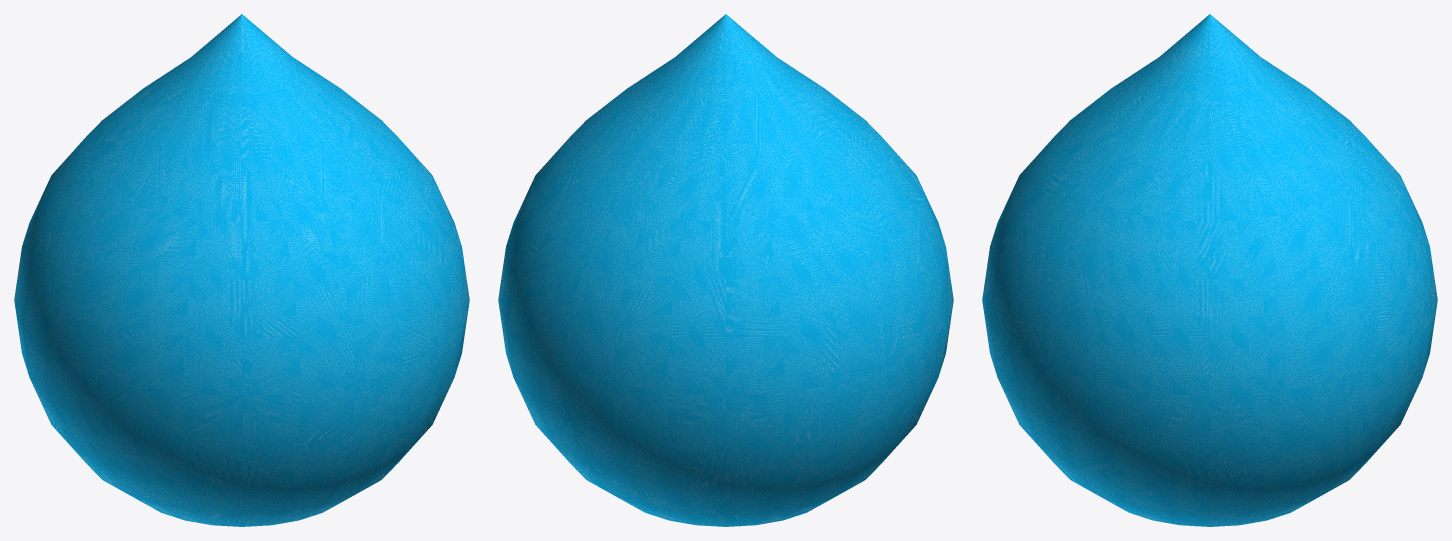
Rendered from anim.fbx.
3 renders of one model, left to right at view 1: azimuth 30°, elevation 25°; view 2: azimuth 150°, elevation 25°; view 3: azimuth 270°, elevation 25°, orthographic.
Visible parts, largest first — view 1: group_2; view 2: group_2; view 3: group_2.
Boxes of the visible parts, left/top/right/bottom form: group_2: left=14, top=14, right=469, bottom=526; group_2: left=498, top=14, right=953, bottom=526; group_2: left=982, top=14, right=1437, bottom=526.
Bounding box in the file's own units: 9.33 × 11.13 × 9.33.
